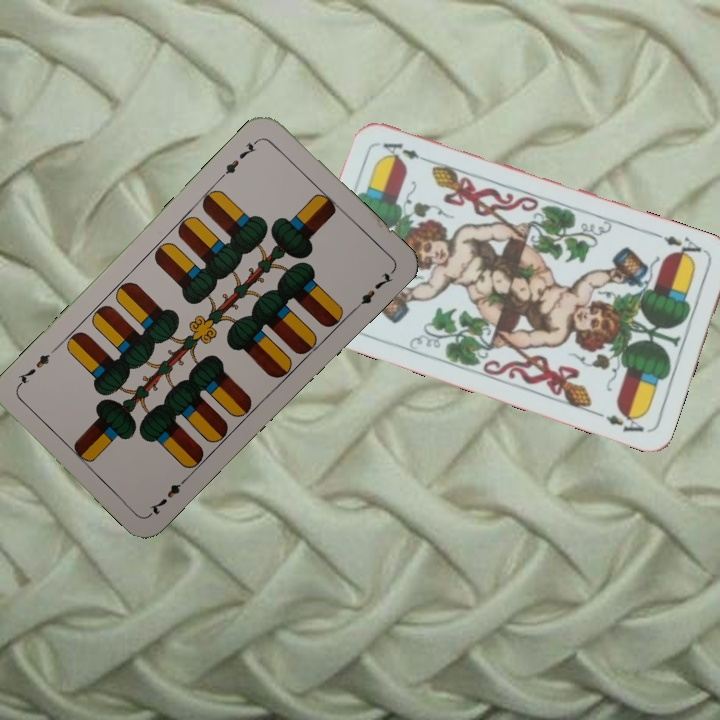E7: (216, 134, 262, 181), (145, 471, 192, 517)
EA: (652, 229, 709, 263)
